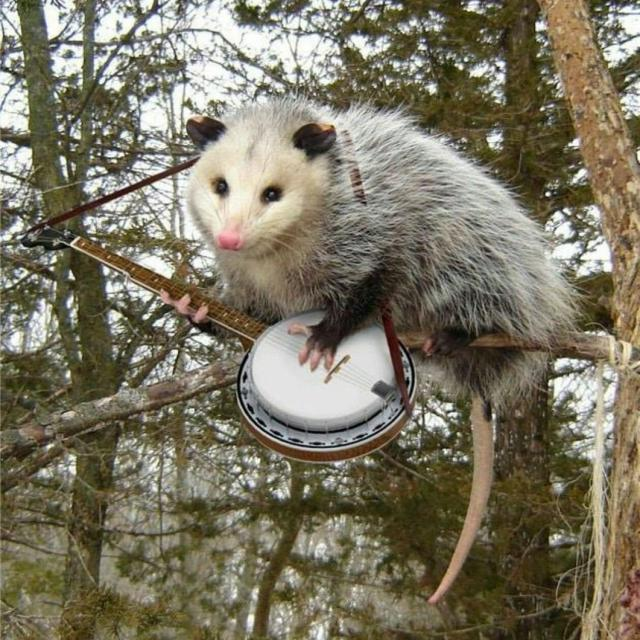Possum: (172, 89, 600, 393)
